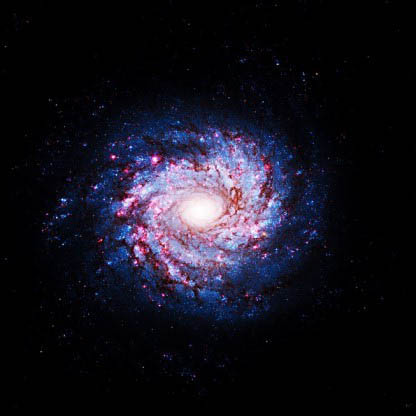NGC 3982: (54, 109, 350, 330)
